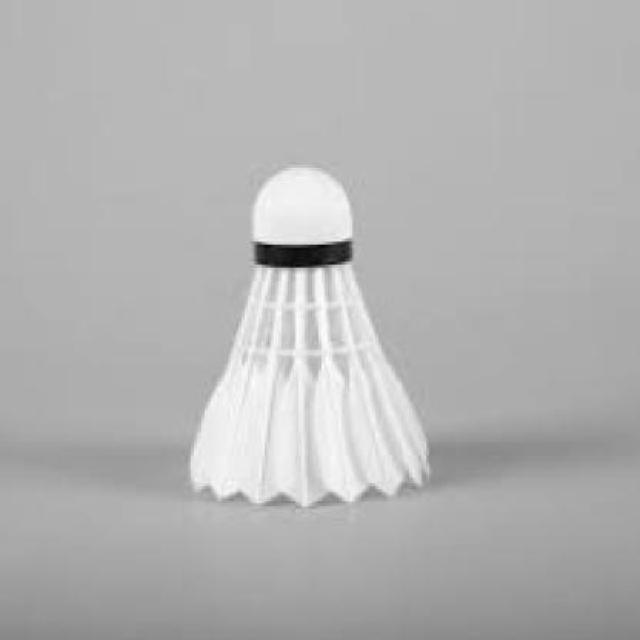Shuttlecock: (181, 166, 434, 511)
